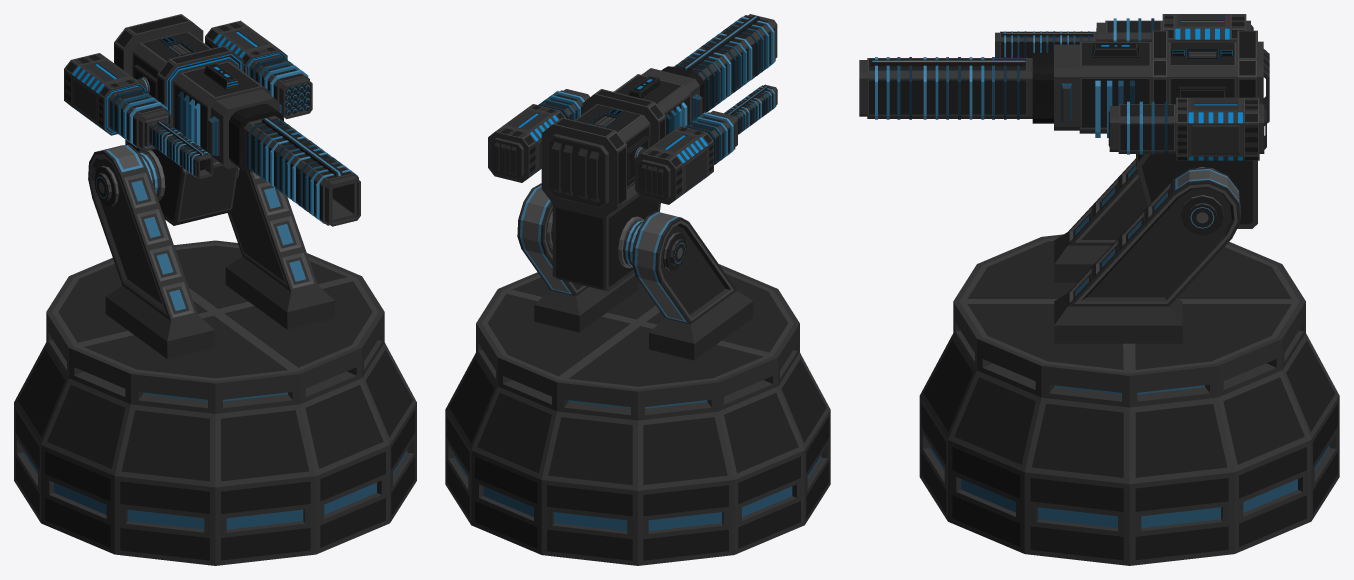
The picture shows the model from 3 angles, left to right: view 1: azimuth 30°, elevation 25°; view 2: azimuth 150°, elevation 25°; view 3: azimuth 270°, elevation 25°; orthographic projection. The views are drawn at different scales.
Parts seen in each view (by area): view 1: PTL002, NTL002, LT003, LT006, Object002; view 2: PTL002, LT003, NTL002, LT006, Object002; view 3: PTL002, LT003, NTL002, Object002, LT006.
Boxes of the visible parts, x1,y1,x2,y2 form: PTL002: [14, 240, 416, 565]; NTL002: [88, 144, 334, 358]; LT003: [114, 14, 360, 226]; LT006: [64, 53, 213, 178]; Object002: [205, 20, 312, 119]; PTL002: [445, 264, 830, 565]; LT003: [541, 14, 777, 291]; NTL002: [517, 183, 753, 360]; LT006: [634, 84, 777, 204]; Object002: [488, 89, 589, 182]; PTL002: [919, 234, 1339, 565]; LT003: [859, 30, 1269, 228]; NTL002: [1054, 158, 1240, 343]; Object002: [1108, 97, 1266, 160]; LT006: [995, 14, 1253, 57].
Size of the model in its own units: 782 by 888 by 894.
